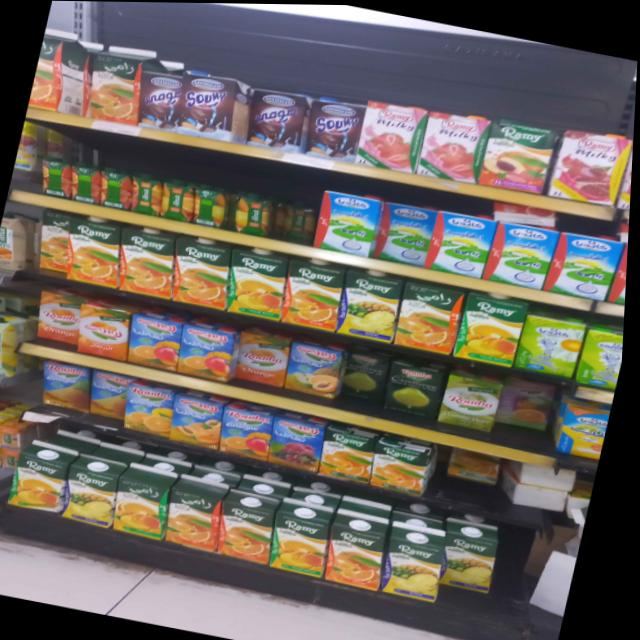ifruit_carton: (226, 189, 280, 237), (0, 310, 33, 379), (188, 180, 231, 228), (96, 165, 140, 211), (34, 153, 77, 198), (127, 171, 167, 217), (65, 161, 104, 204)
ramy_carton: (475, 114, 564, 196), (322, 506, 403, 593), (378, 516, 457, 603), (412, 105, 494, 186), (104, 458, 184, 541), (73, 42, 151, 127), (553, 126, 635, 206), (159, 470, 238, 553), (268, 493, 345, 578), (392, 276, 473, 356), (211, 484, 290, 566), (451, 287, 533, 366), (222, 241, 301, 322), (8, 439, 85, 518), (333, 266, 410, 344), (275, 256, 352, 333), (163, 233, 239, 310), (57, 214, 133, 290), (109, 223, 184, 299), (355, 99, 431, 174), (437, 512, 508, 591), (65, 452, 131, 529), (31, 207, 100, 280), (368, 431, 443, 496), (316, 419, 385, 484), (613, 134, 635, 214)
rouiba_carton: (439, 363, 510, 432), (123, 306, 193, 374), (176, 318, 246, 384), (75, 296, 145, 362), (384, 356, 457, 419), (281, 335, 350, 401), (231, 324, 298, 390), (32, 285, 98, 348), (497, 371, 565, 432), (218, 400, 285, 460), (334, 342, 396, 405), (268, 410, 334, 469), (120, 377, 186, 435), (167, 388, 232, 445), (84, 367, 143, 422), (35, 357, 96, 408)
sommam_carton: (171, 69, 257, 145), (239, 84, 317, 157), (298, 92, 366, 164), (129, 67, 188, 135)
